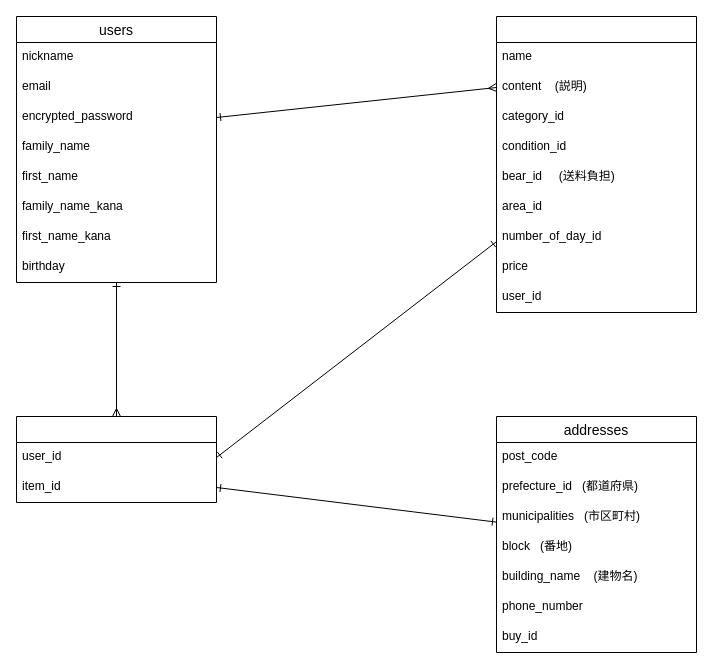
This 713x669 diagram has some shape labels left out. The box of each missing label's shape, as (x1, y1, x2, y2) in pixels:
buys: (16, 416, 216, 502)
items: (496, 16, 696, 312)
